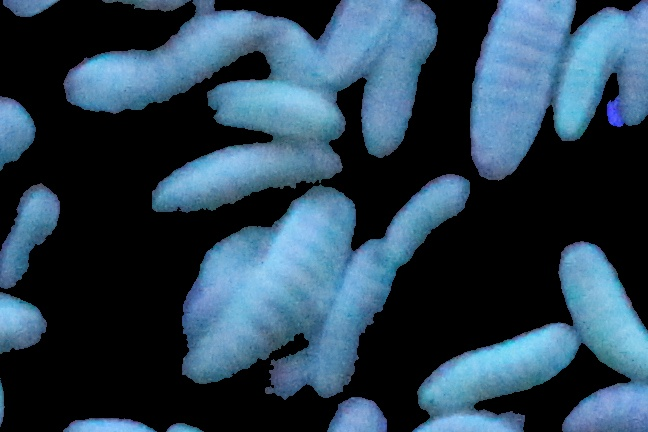larvae: (221, 191, 350, 379), (58, 17, 273, 119), (475, 1, 578, 190), (147, 129, 350, 217), (308, 227, 401, 405), (352, 1, 448, 160), (422, 324, 580, 408), (373, 172, 493, 270), (562, 234, 648, 360), (311, 1, 423, 97), (557, 3, 626, 140), (206, 79, 348, 140), (1, 177, 69, 297), (554, 375, 648, 430), (610, 3, 648, 137), (1, 104, 32, 237), (1, 300, 50, 366), (416, 1, 530, 3)
